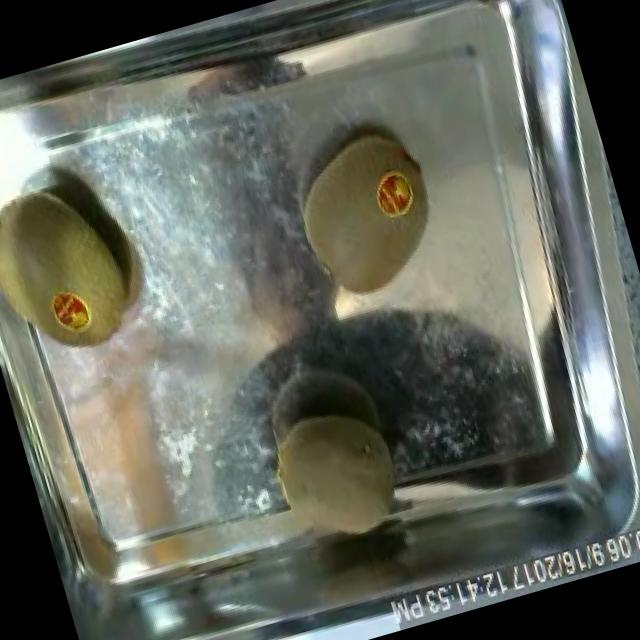Fruit: (270, 111, 457, 316), (0, 160, 154, 380), (248, 386, 424, 572)
